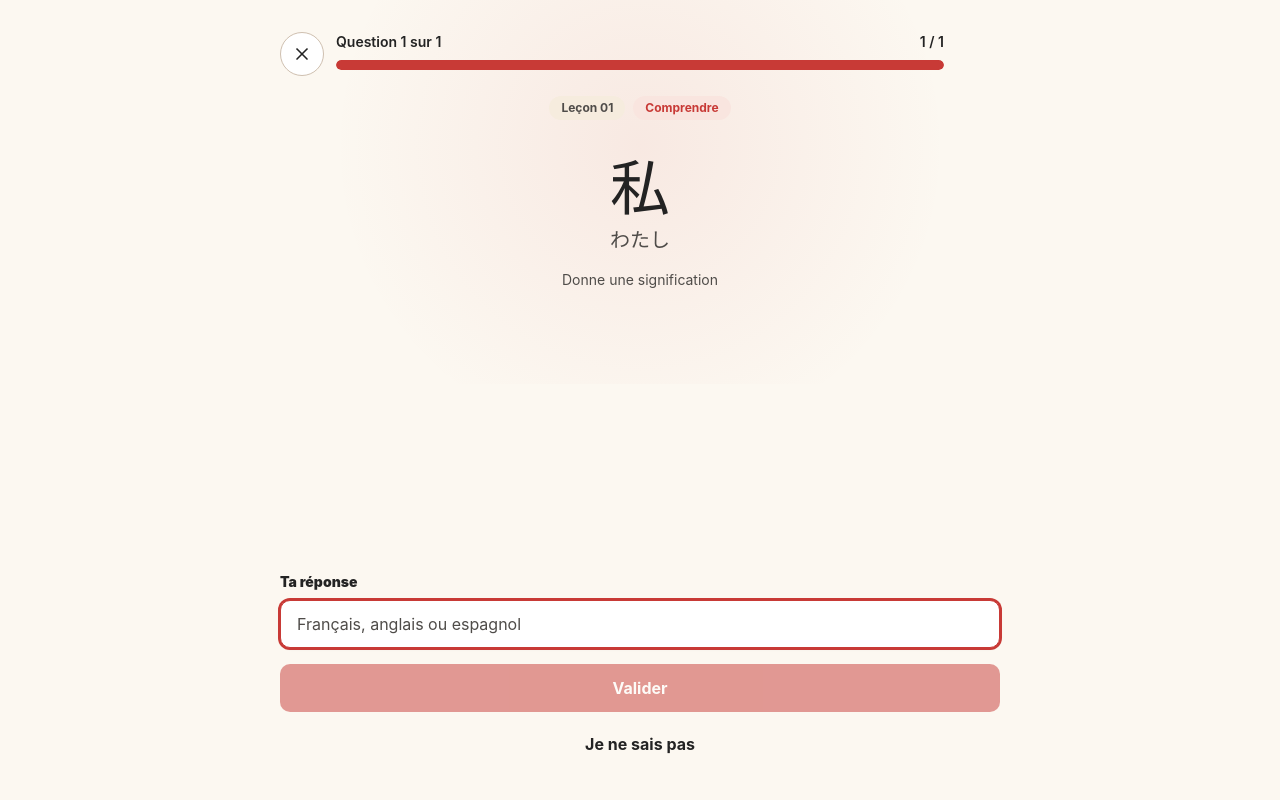
Test: QuizPage › keeps keyboard focus inside the exit dialog and closes it with Escape
Click the button named "Quitter le quiz": (302, 54) [280,32,324,76]
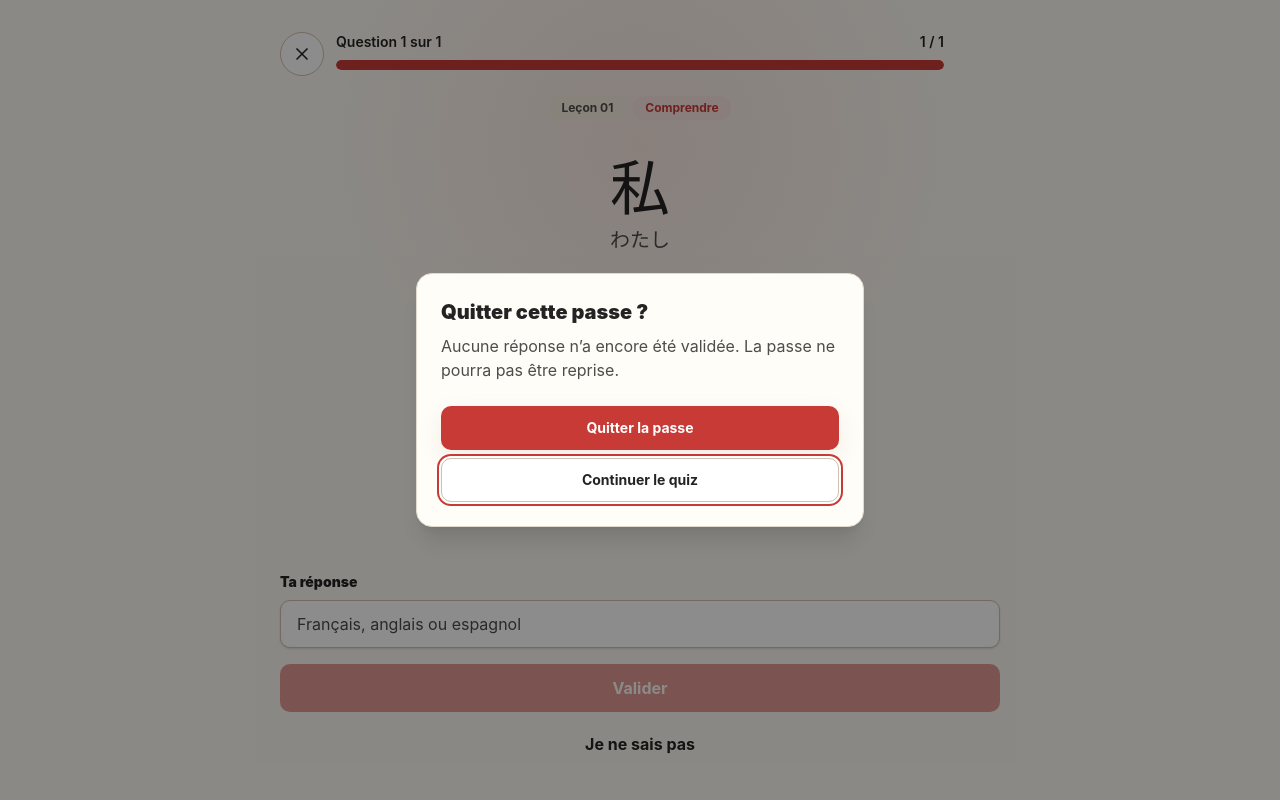
Expected: the dialog is shown
Press Escape
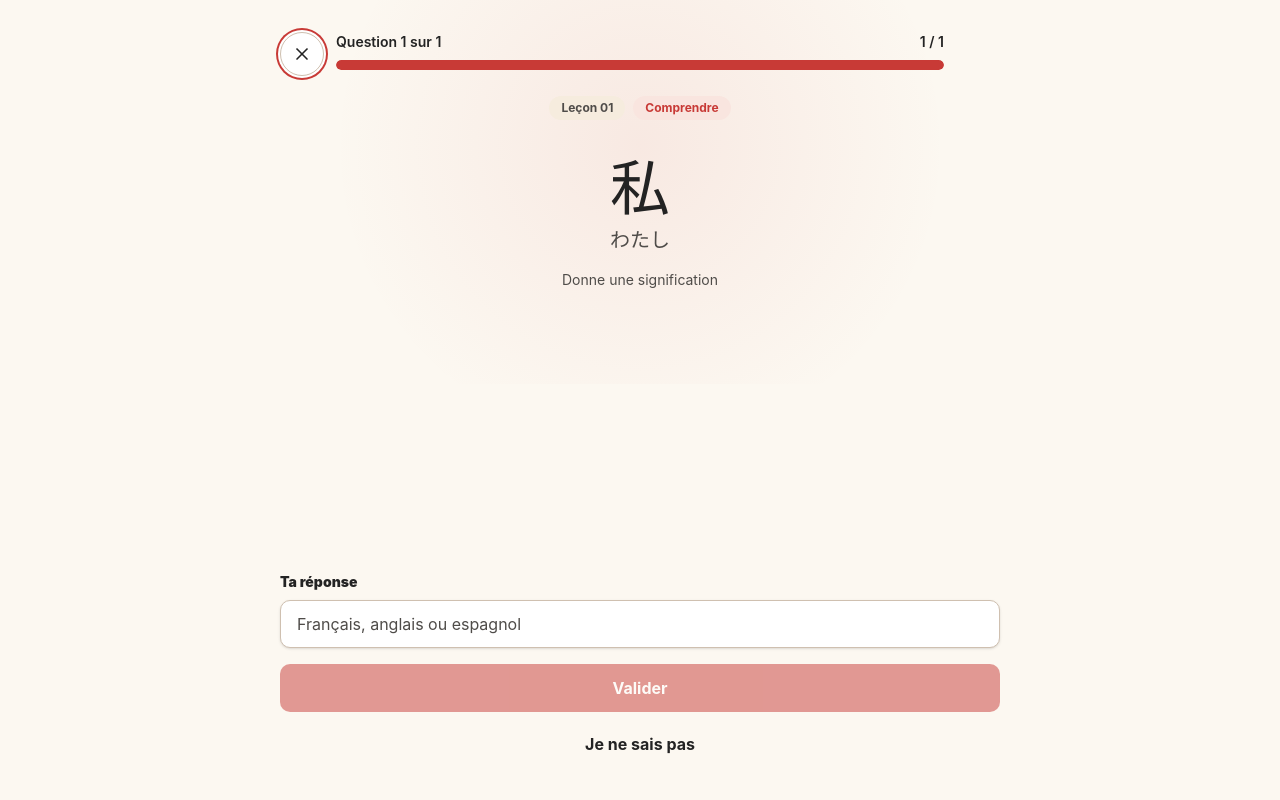
Expected: the dialog is gone
